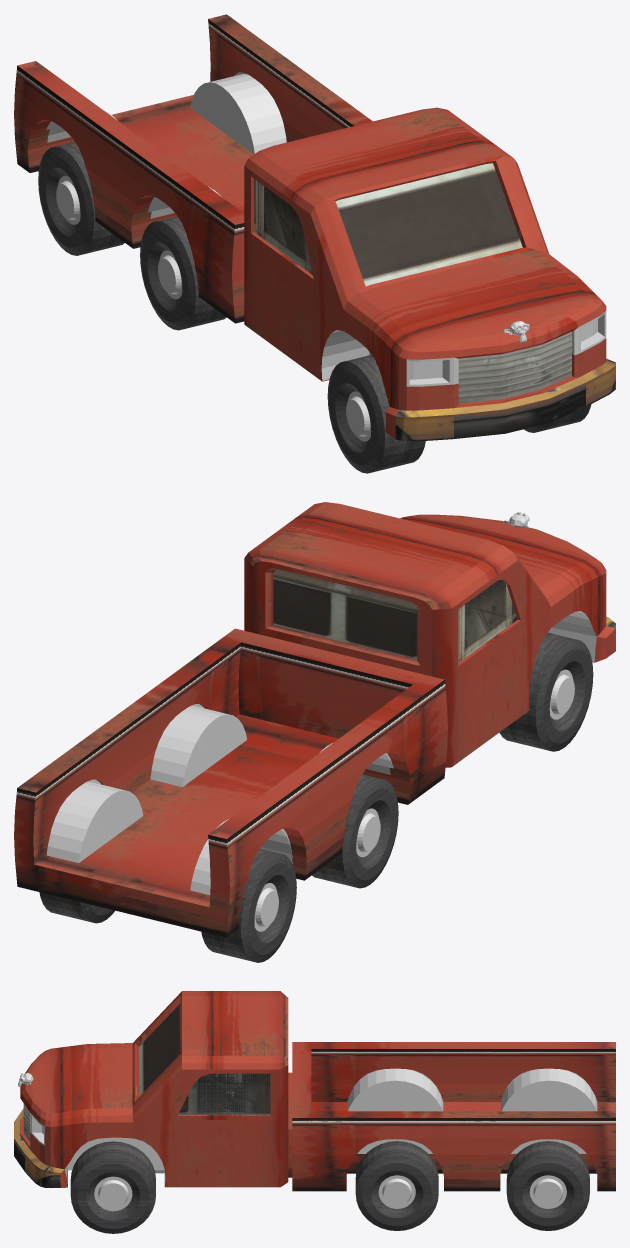
Rendered from Truck 2.fbx.
3 renders of one model, top to bottom at view 1: azimuth 30°, elevation 25°; view 2: azimuth 150°, elevation 25°; view 3: azimuth 270°, elevation 25°, orthographic. The views are drawn at different scales.
Parts seen in each view (by area): view 1: Cube.003; view 2: Cube.003; view 3: Cube.003.
Boxes of the visible parts, left/top/right/bottom form: Cube.003: left=14, top=14, right=615, bottom=473; Cube.003: left=14, top=502, right=615, bottom=962; Cube.003: left=14, top=991, right=615, bottom=1233.
Bounding box in the file's own units: 551 × 560 × 1757.
